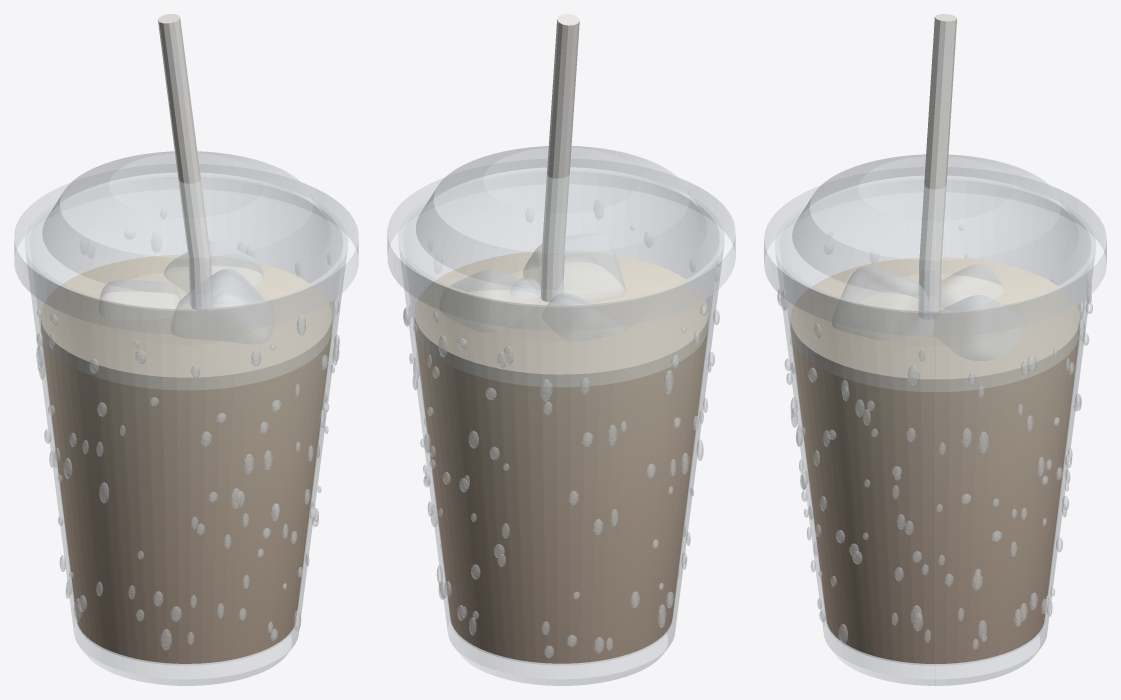
Rendered from iced_french_vanilla_latte.glb.
The picture shows the model from 3 angles, left to right: view 1: azimuth 30°, elevation 25°; view 2: azimuth 150°, elevation 25°; view 3: azimuth 270°, elevation 25°; orthographic projection.
Visible parts, largest first — view 1: iced_french_vanilla_latte__cup_1, iced_french_vanilla_latte__drink_2, iced_french_vanilla_latte__lid_6, iced_french_vanilla_latte__foam_4, iced_french_vanilla_latte__condensation_5, iced_french_vanilla_latte__ice_3, iced_french_vanilla_latte__straw_7; view 2: iced_french_vanilla_latte__cup_1, iced_french_vanilla_latte__drink_2, iced_french_vanilla_latte__lid_6, iced_french_vanilla_latte__foam_4, iced_french_vanilla_latte__condensation_5, iced_french_vanilla_latte__ice_3, iced_french_vanilla_latte__straw_7; view 3: iced_french_vanilla_latte__cup_1, iced_french_vanilla_latte__drink_2, iced_french_vanilla_latte__lid_6, iced_french_vanilla_latte__foam_4, iced_french_vanilla_latte__condensation_5, iced_french_vanilla_latte__ice_3, iced_french_vanilla_latte__straw_7.
Part boxes in pixels (box(x1,y1,x2,y2)): iced_french_vanilla_latte__cup_1: box(25, 175, 347, 685); iced_french_vanilla_latte__drink_2: box(42, 334, 331, 663); iced_french_vanilla_latte__lid_6: box(14, 151, 358, 334); iced_french_vanilla_latte__foam_4: box(41, 254, 331, 390); iced_french_vanilla_latte__condensation_5: box(36, 209, 339, 650); iced_french_vanilla_latte__ice_3: box(100, 242, 273, 343); iced_french_vanilla_latte__straw_7: box(158, 14, 212, 310); iced_french_vanilla_latte__cup_1: box(398, 169, 724, 685); iced_french_vanilla_latte__drink_2: box(415, 331, 707, 663); iced_french_vanilla_latte__lid_6: box(387, 146, 735, 330); iced_french_vanilla_latte__foam_4: box(414, 250, 708, 387); iced_french_vanilla_latte__condensation_5: box(403, 199, 719, 657); iced_french_vanilla_latte__ice_3: box(440, 233, 624, 341); iced_french_vanilla_latte__straw_7: box(540, 14, 579, 302); iced_french_vanilla_latte__cup_1: box(775, 178, 1095, 685); iced_french_vanilla_latte__drink_2: box(791, 338, 1078, 663); iced_french_vanilla_latte__lid_6: box(764, 154, 1106, 336); iced_french_vanilla_latte__foam_4: box(790, 257, 1080, 392); iced_french_vanilla_latte__condensation_5: box(777, 226, 1092, 649); iced_french_vanilla_latte__ice_3: box(832, 264, 1026, 360); iced_french_vanilla_latte__straw_7: box(918, 14, 956, 319).
Size of the model in its own units: 0.098 by 0.1954 by 0.098.
7 materials, 1 textured.
